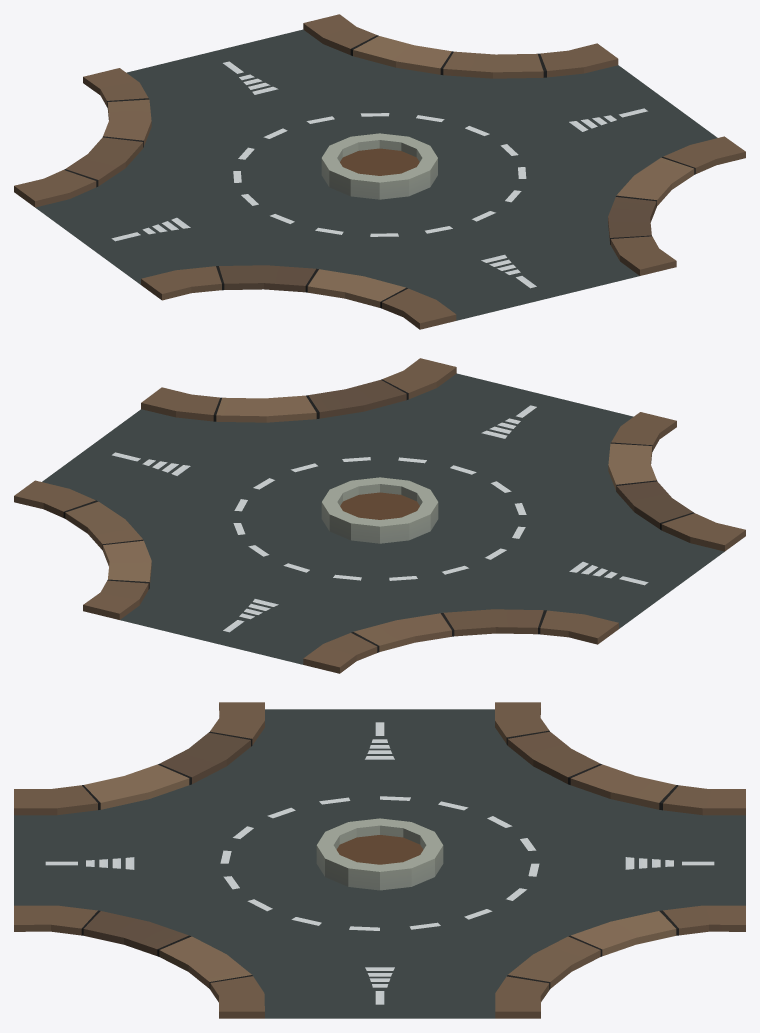
Rendered from Road_1_115.fbx.
3 views of the same model, one above another, from view 1: azimuth 30°, elevation 25°; view 2: azimuth 150°, elevation 25°; view 3: azimuth 270°, elevation 25° (orthographic). The views are drawn at different scales.
Parts seen in each view (by area): view 1: Road_1_115; view 2: Road_1_115; view 3: Road_1_115.
Boxes of the visible parts, bbox=[...] form: Road_1_115: bbox=[14, 14, 745, 329]; Road_1_115: bbox=[14, 358, 745, 673]; Road_1_115: bbox=[14, 702, 745, 1018].
Bounding box in the file's own units: 2864 × 80.58 × 2862.
